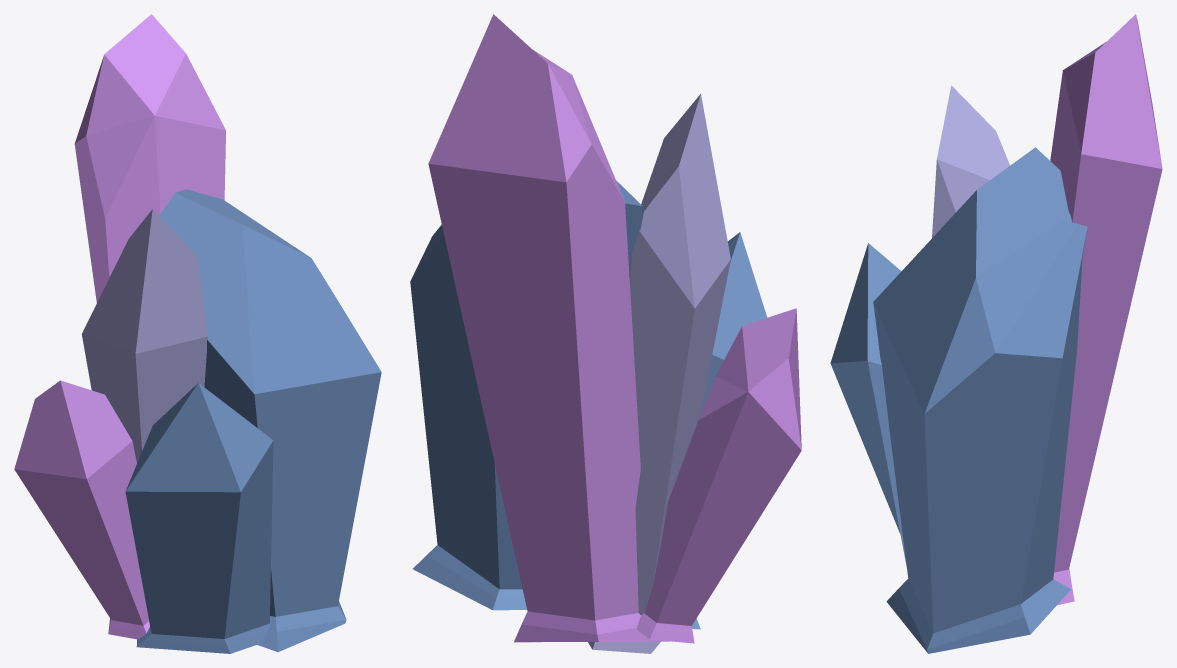
The model's file is Crystal_5.fbx.
3 renders of one model, left to right at view 1: azimuth 30°, elevation 25°; view 2: azimuth 150°, elevation 25°; view 3: azimuth 270°, elevation 25°, orthographic. The views are drawn at different scales.
Visible parts, largest first — view 1: Icosphere.005, Icosphere.007, Icosphere.008, Icosphere.006, Icosphere.009; view 2: Icosphere.008, Icosphere.009, Icosphere.006, Icosphere.005, Icosphere.007; view 3: Icosphere.005, Icosphere.008, Icosphere.007, Icosphere.009.
Part boxes in pixels (x1,y1,x2,y2): Icosphere.005: (159, 189, 381, 651); Icosphere.007: (125, 383, 273, 653); Icosphere.008: (74, 14, 225, 302); Icosphere.006: (14, 380, 149, 639); Icosphere.009: (81, 209, 207, 462); Icosphere.008: (428, 14, 669, 642); Icosphere.009: (588, 94, 730, 653); Icosphere.006: (636, 308, 801, 643); Icosphere.005: (410, 180, 644, 610); Icosphere.007: (692, 232, 767, 629); Icosphere.005: (873, 147, 1087, 653); Icosphere.008: (1050, 14, 1162, 605); Icosphere.007: (830, 243, 906, 567); Icosphere.009: (932, 85, 1009, 237).
Size of the model in its own units: 173 by 283 by 144.
